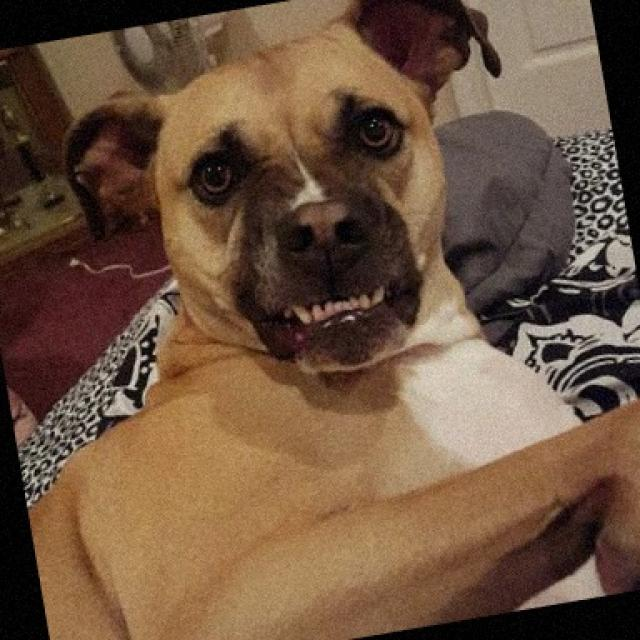angry: (56, 44, 564, 404)
